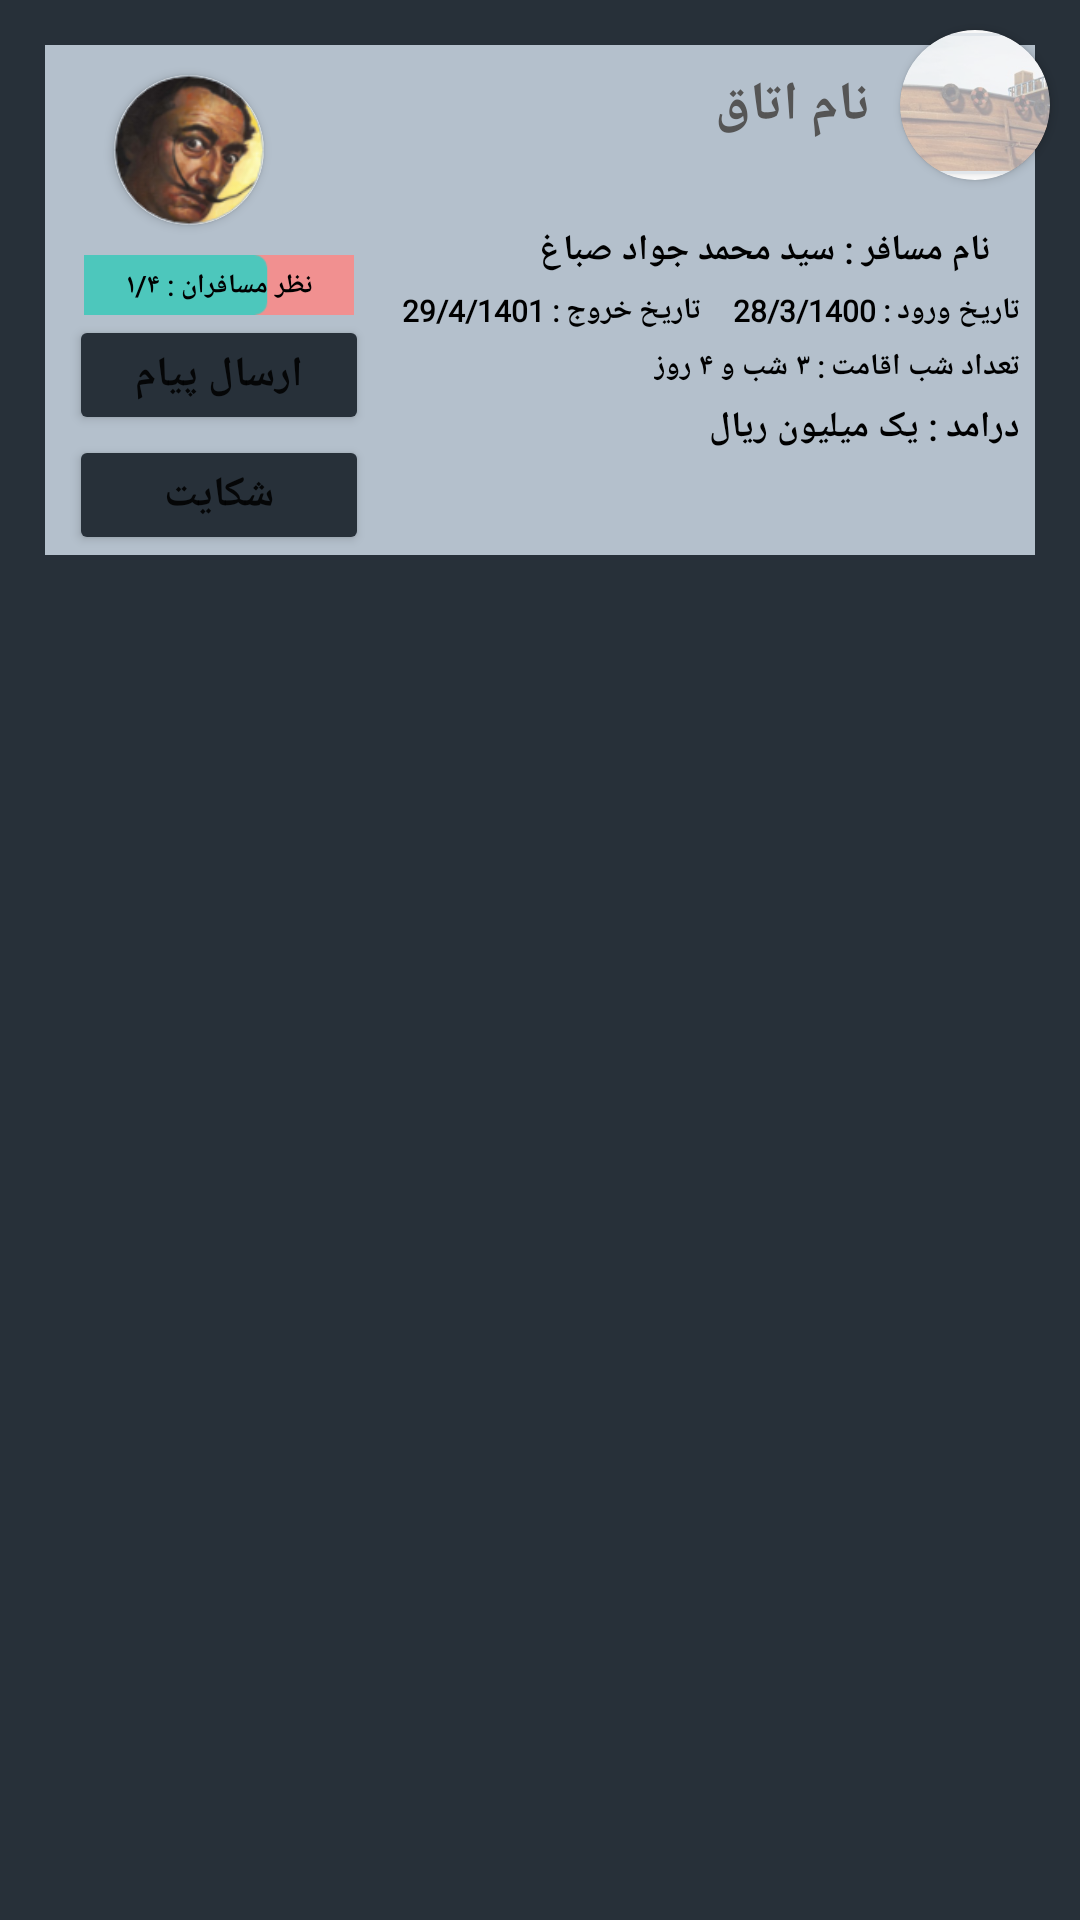

Where to tap for icons on this 1080x1920 app screen, as [x,y]:
face: [189,150]
